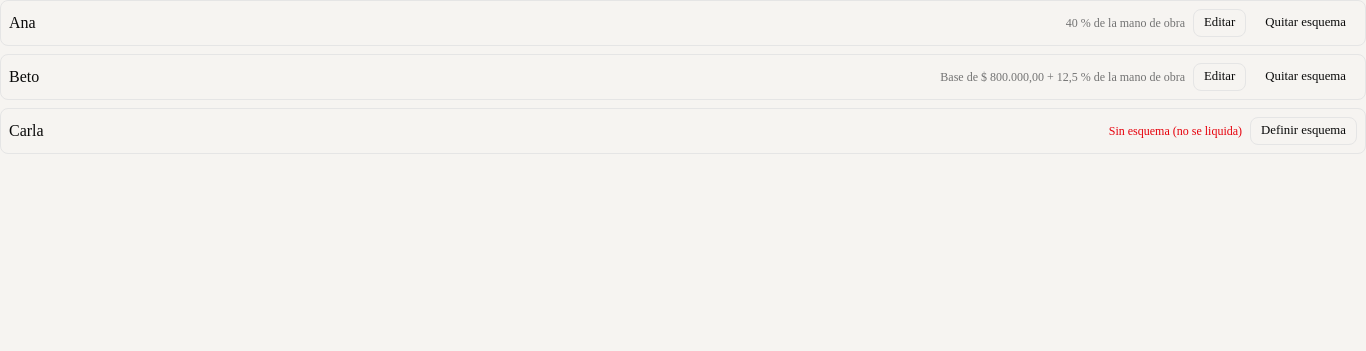
Test: EsquemaLiquidacionSection › muestra el error de la action sin cerrar el formulario
Click the button "Editar" next to "40 % de la mano de obra": [1220, 23] box [1193, 9, 1246, 37]
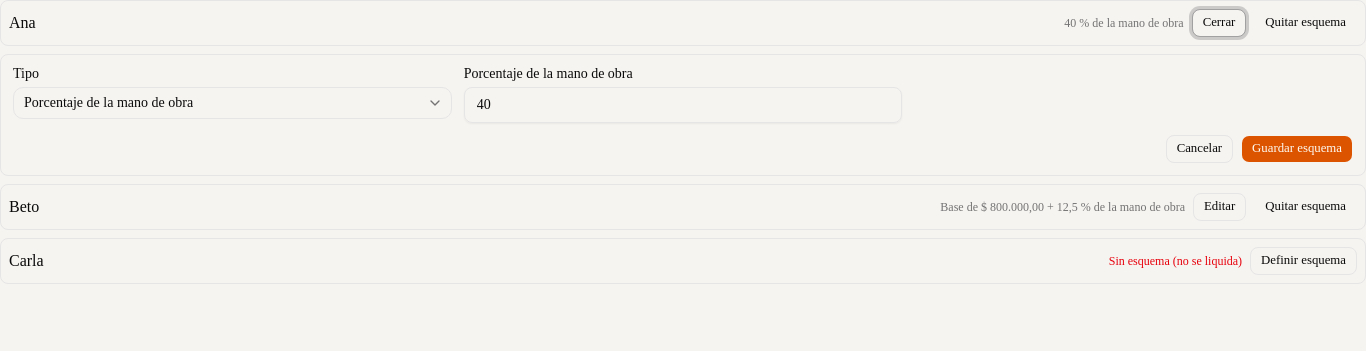
Click the button "Guardar esquema": [1297, 149] box [1241, 135, 1353, 163]
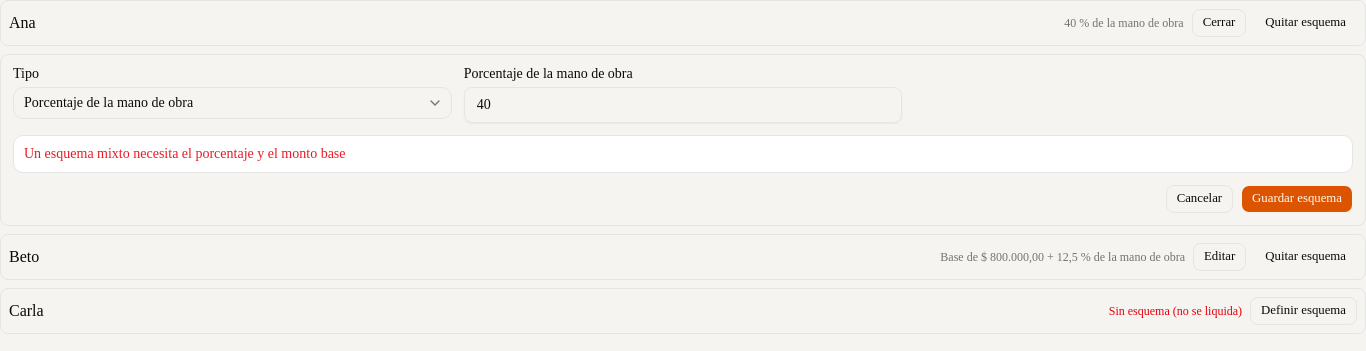
Check: the button "Guardar esquema" is shown, box [1241, 185, 1353, 213]
Check: the message reads "Un esquema mixto necesita el porcentaje y el monto base", box [24, 146, 346, 161]
